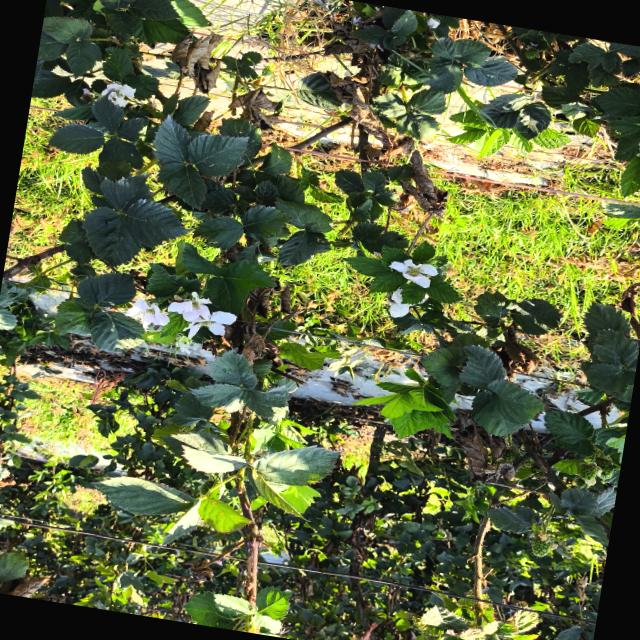flor: (167, 292, 236, 337), (390, 259, 438, 288), (124, 299, 169, 329), (102, 83, 136, 107), (389, 288, 414, 318)
